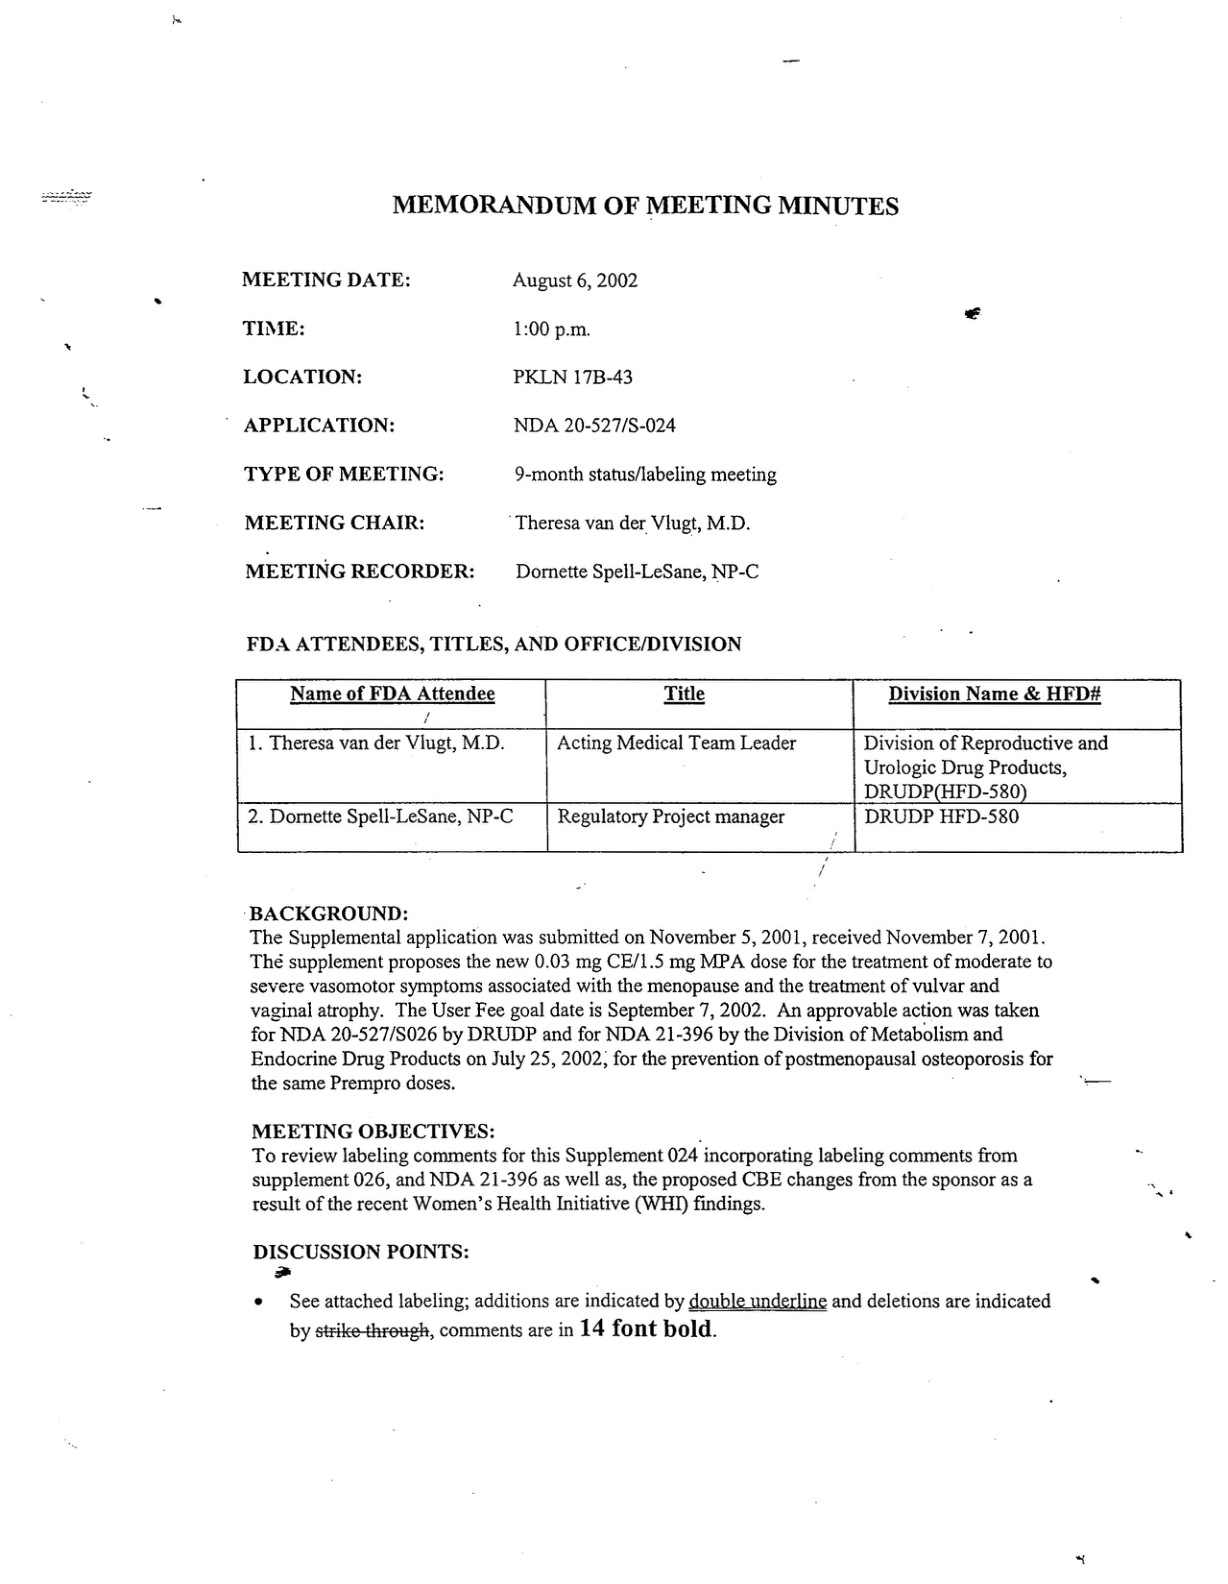full_lined: (233, 678, 1186, 855)
nolines: (238, 267, 781, 585)
